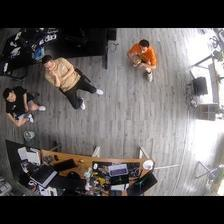normal: (3, 88, 43, 125), (128, 39, 158, 81)
